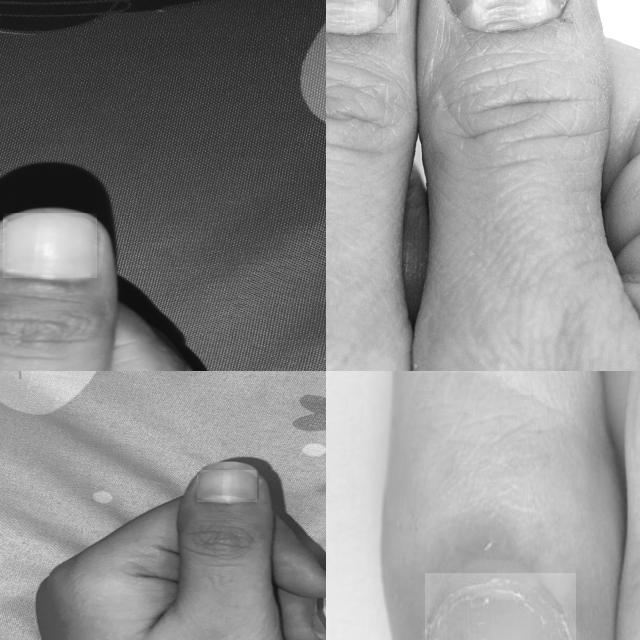diabetes: (430, 573, 570, 640), (448, 0, 567, 32)
sehat: (4, 214, 97, 278), (198, 470, 257, 502)
